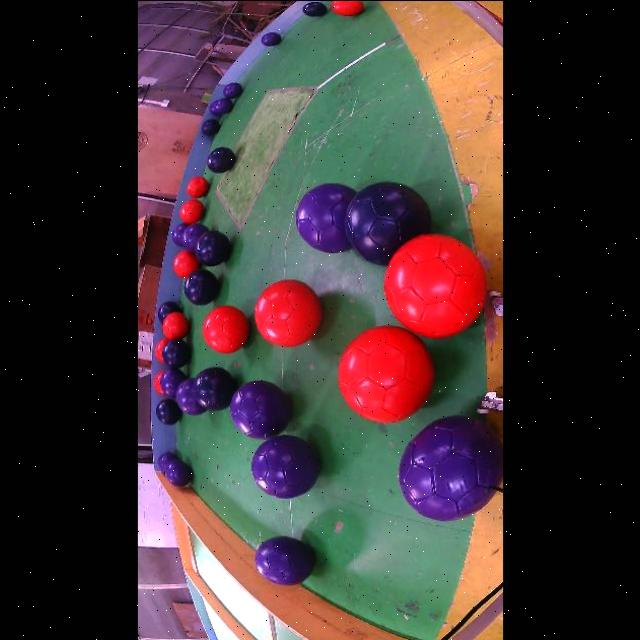B: (344, 181, 430, 264), (193, 366, 236, 409), (194, 230, 230, 266), (183, 268, 218, 305), (161, 338, 189, 367), (207, 146, 235, 172), (155, 398, 181, 424), (157, 300, 181, 322), (200, 118, 219, 135), (302, 2, 326, 15)
P: (398, 415, 501, 520), (251, 435, 318, 497), (296, 182, 355, 252), (230, 380, 291, 438), (254, 535, 313, 584), (175, 377, 205, 414), (160, 367, 186, 398), (181, 222, 207, 252), (165, 459, 191, 485), (157, 451, 178, 473), (171, 221, 187, 245), (222, 82, 242, 98), (260, 31, 280, 46), (215, 97, 232, 112), (209, 101, 224, 114)
R: (383, 233, 485, 337), (338, 325, 434, 422), (254, 278, 321, 346), (202, 305, 249, 352), (161, 311, 189, 338), (172, 249, 199, 277), (179, 198, 204, 222), (186, 175, 208, 197), (331, 0, 363, 15), (155, 337, 167, 362), (153, 370, 164, 395)
